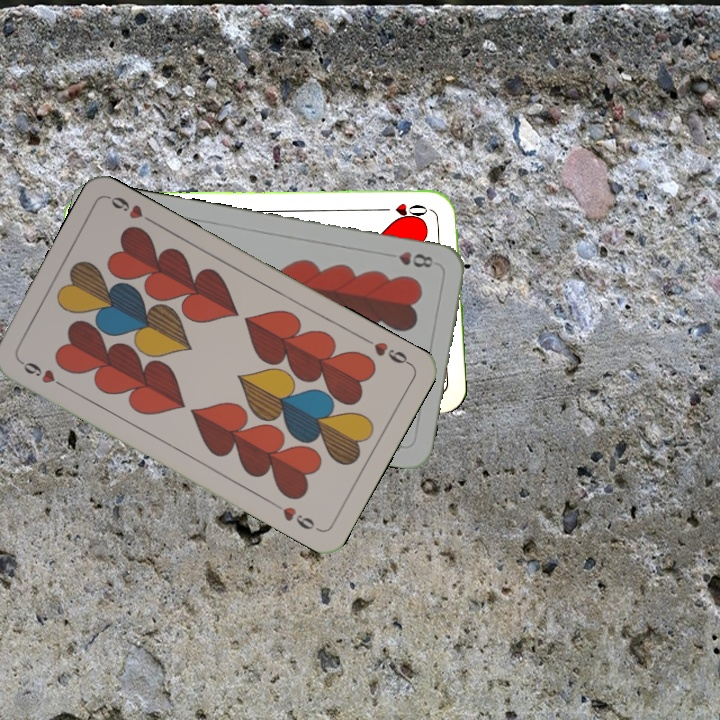H8: (395, 247, 436, 271)
H9: (15, 356, 69, 392), (359, 333, 414, 368)
HO: (378, 199, 437, 223)
